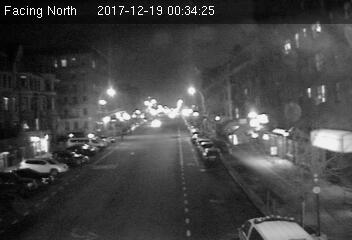car: (201, 148, 220, 164)
police: (235, 214, 310, 240)
